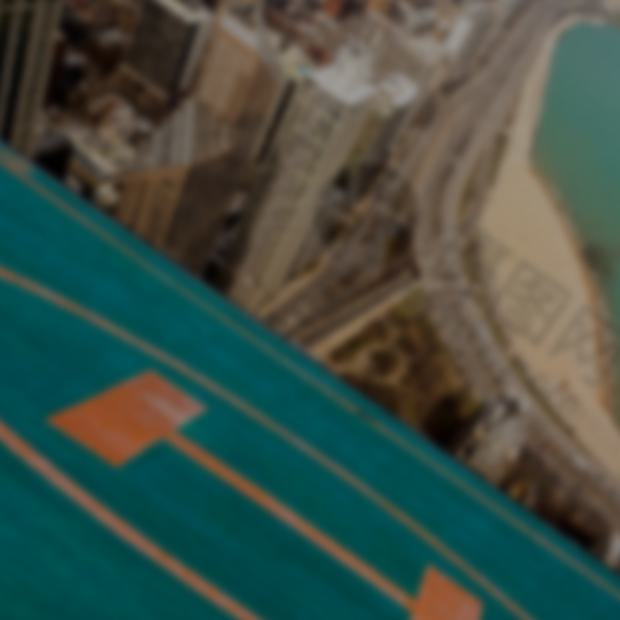Apron: (2, 255, 564, 620)
